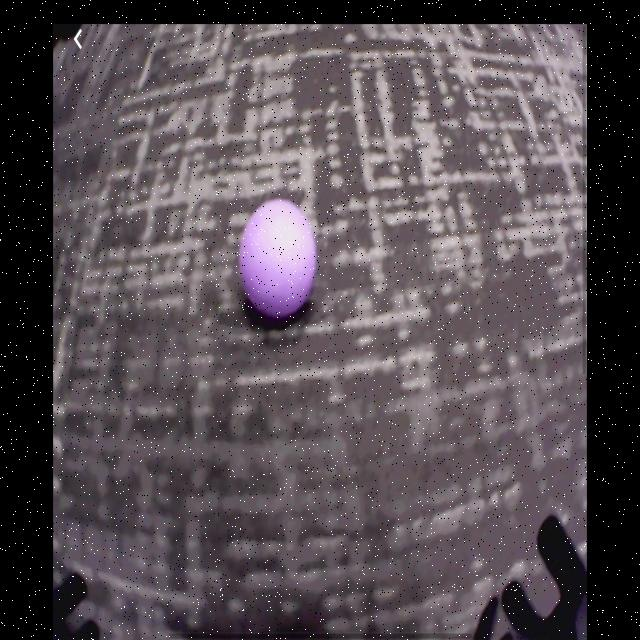ball: (238, 199, 317, 324)
